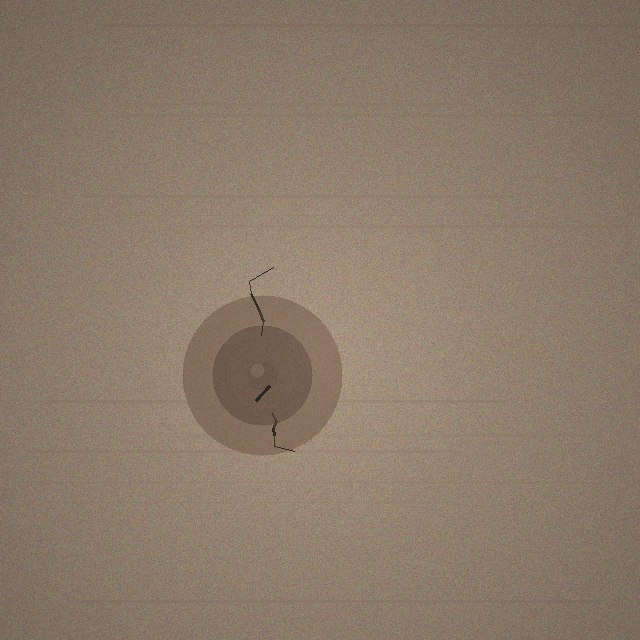crack: (182, 295, 342, 455)
